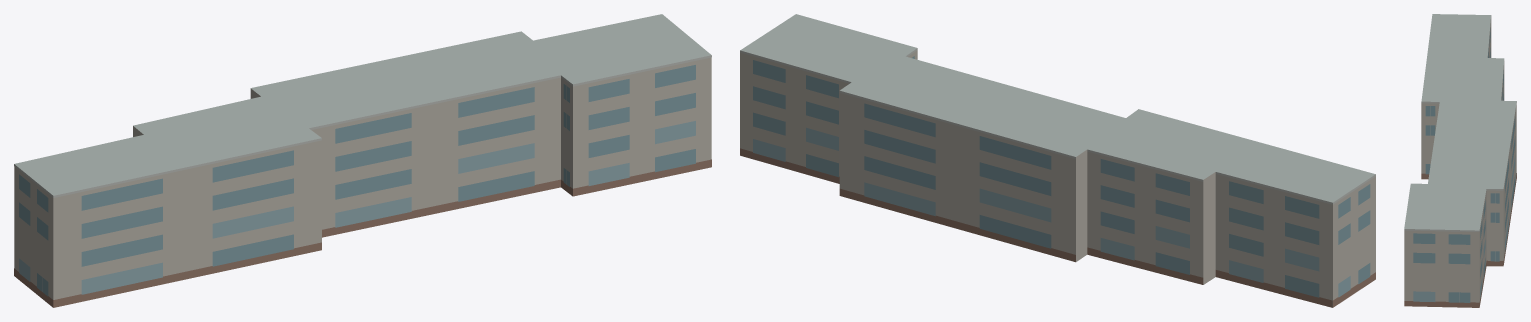
Rendered from survey-upis-32755507.glb.
The picture shows the model from 3 angles, left to right: view 1: azimuth 30°, elevation 25°; view 2: azimuth 150°, elevation 25°; view 3: azimuth 270°, elevation 25°; orthographic projection. The views are drawn at different scales.
Parts seen in each view (by area): view 1: survey-upis-32755507.tmp; view 2: survey-upis-32755507.tmp; view 3: survey-upis-32755507.tmp.
Boxes of the visible parts, x1,y1,x2,y2 form: survey-upis-32755507.tmp: (14,14,711,307); survey-upis-32755507.tmp: (740,14,1375,307); survey-upis-32755507.tmp: (1404,14,1516,307).
Bounding box in the file's own units: 73.25 × 12.2 × 16.11.
